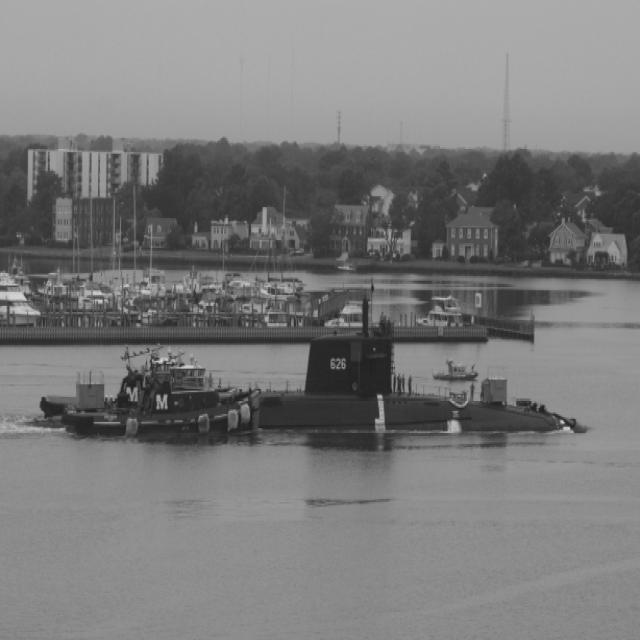submarine: (263, 329, 589, 429)
